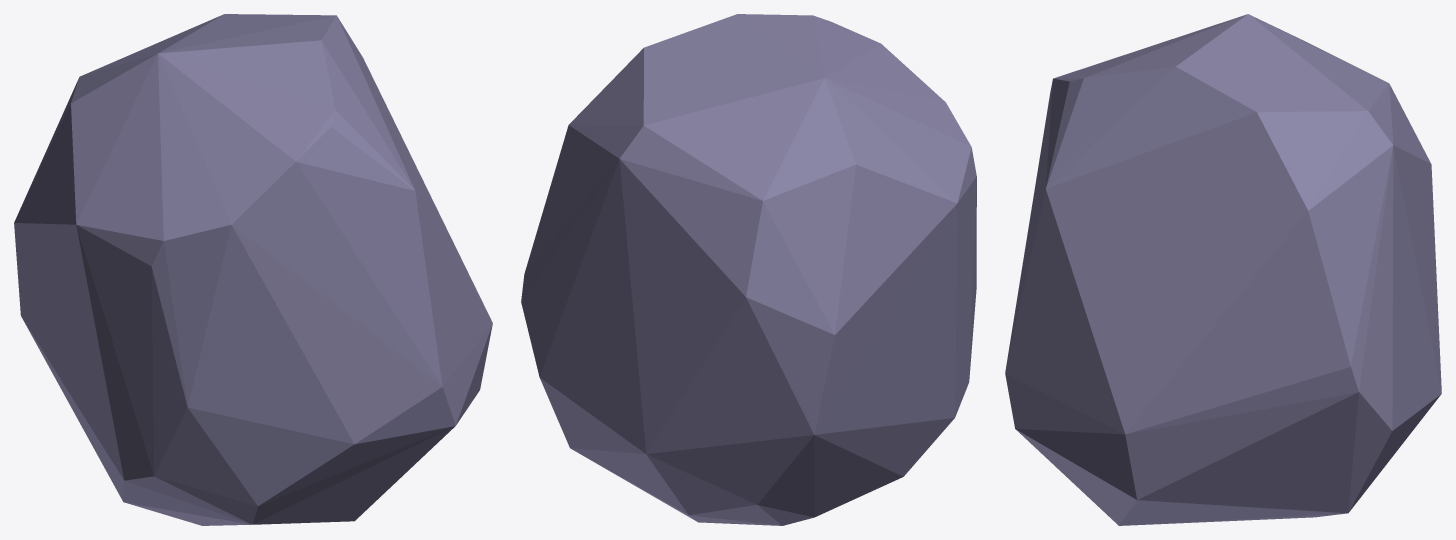
Rendered from food_produce_peach_c01.glb.
3 renders of one model, left to right at view 1: azimuth 30°, elevation 25°; view 2: azimuth 150°, elevation 25°; view 3: azimuth 270°, elevation 25°, orthographic. The views are drawn at different scales.
Visible parts, largest first — view 1: geometry_0; view 2: geometry_0; view 3: geometry_0.
Part boxes in pixels (<box>): geometry_0: <box>14,14,492,525</box>; geometry_0: <box>521,14,976,525</box>; geometry_0: <box>1005,14,1441,525</box>.
Size of the model in its own units: 0.3891 by 0.4636 by 0.3878.
